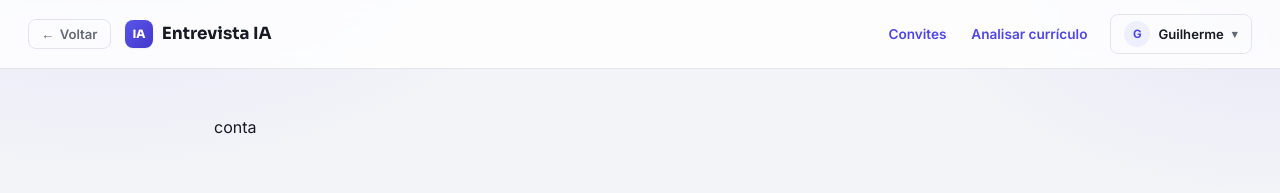
Test: Layout › sair apaga os rascunhos, sem passar pelo ?voltar=
The width and height of the screenshot is (1280, 193).
Click the button "G Guilherme ▾" at x=1181, y=34, box left=1110, top=14, right=1252, bottom=54
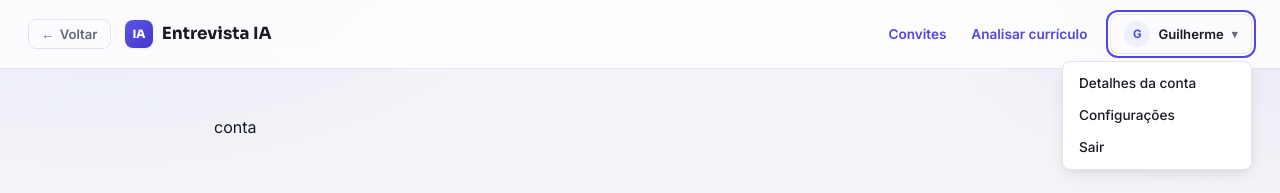
Click the menu item "Sair" at x=1157, y=147, box left=1069, top=131, right=1245, bottom=163
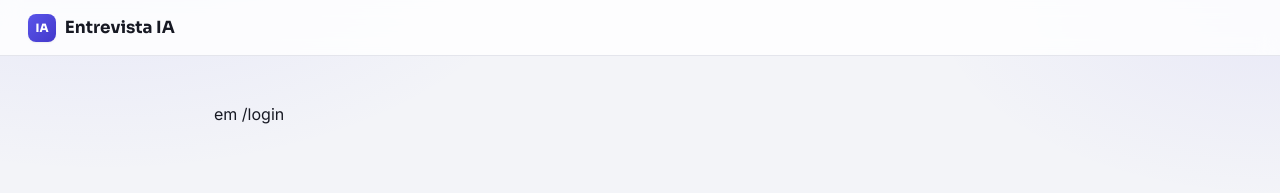
Check: the text "em /login" is shown, box left=214, top=104, right=284, bottom=124
